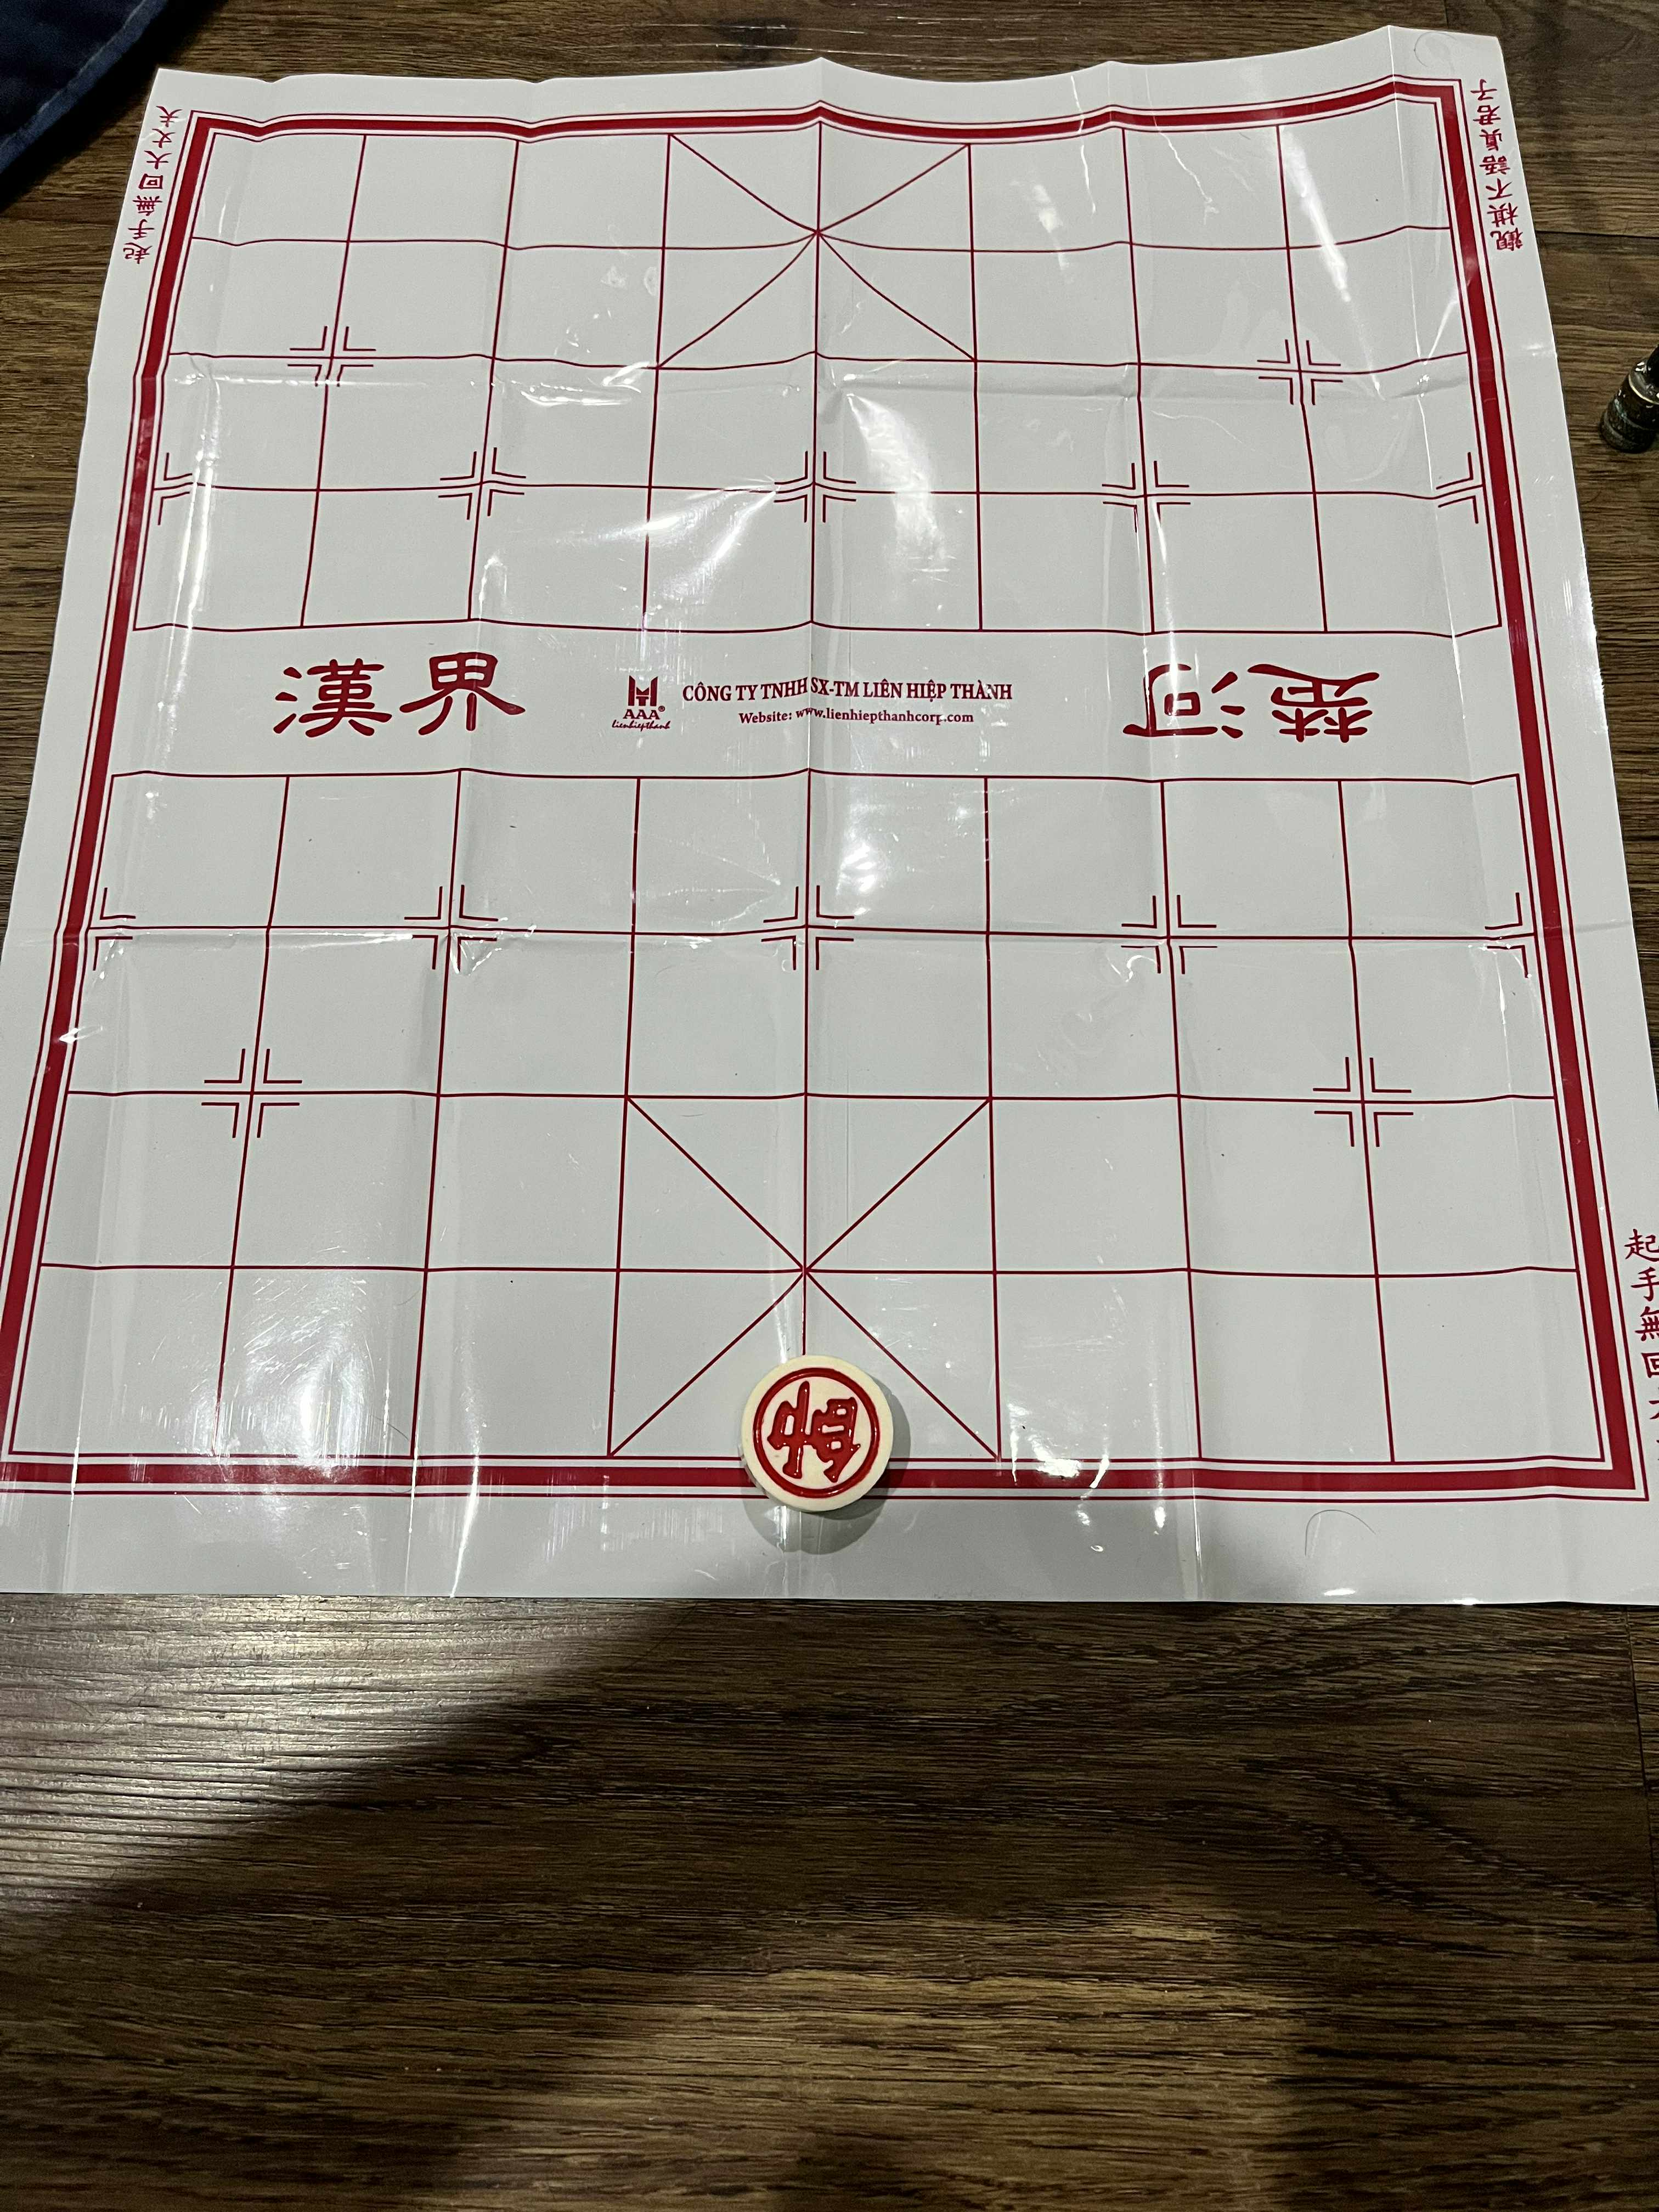red-general: (741, 1353, 892, 1512)
